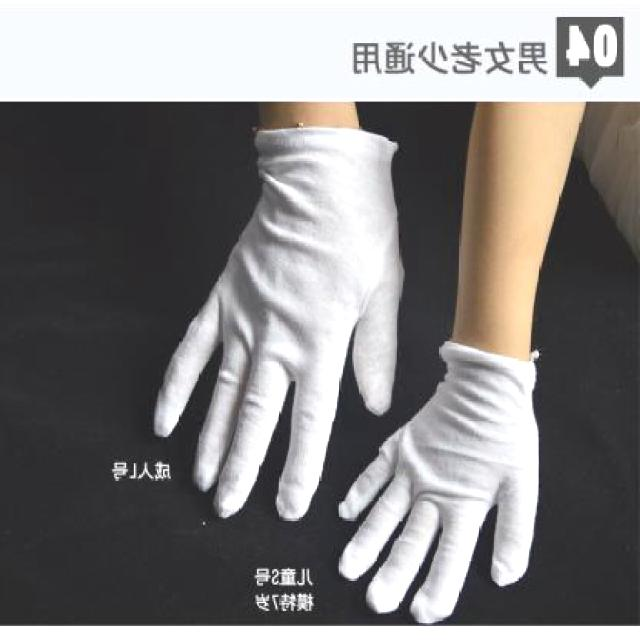hand_glove: (157, 203, 406, 517), (338, 410, 542, 627)
